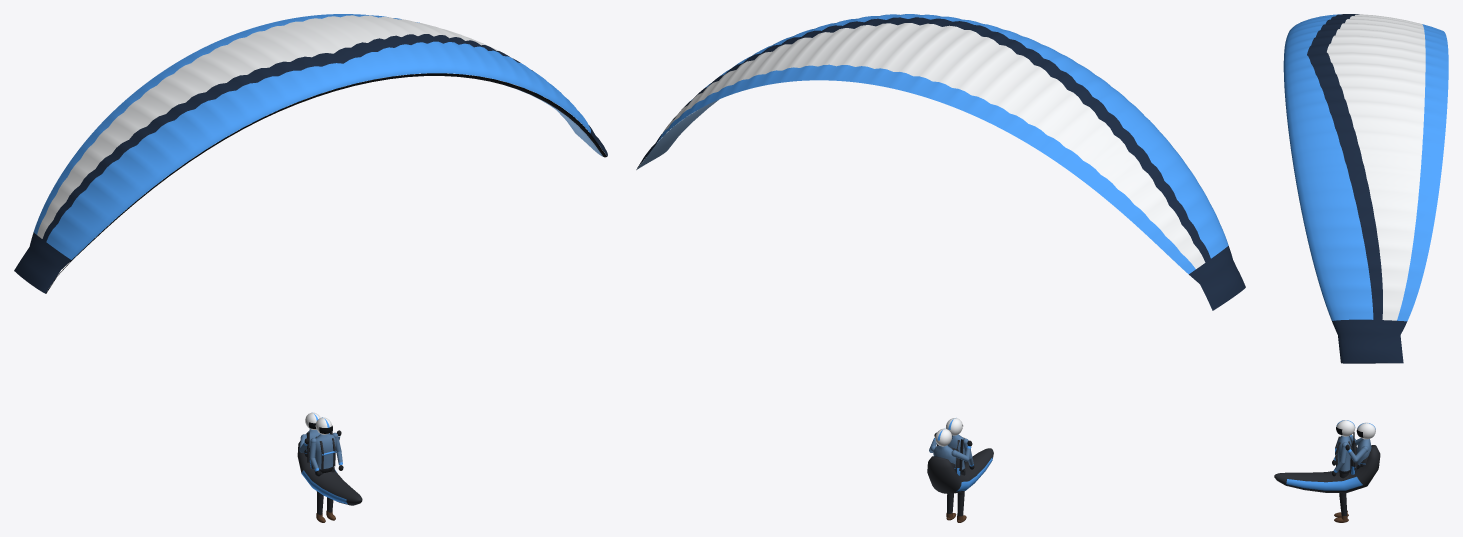
File: paraglider.glb
The picture shows the model from 3 angles, left to right: view 1: azimuth 30°, elevation 25°; view 2: azimuth 150°, elevation 25°; view 3: azimuth 270°, elevation 25°; orthographic projection. The views are drawn at different scales.
Parts seen in each view (by area): view 1: canopy, pilot-seated, pilot-standing; view 2: canopy, pilot-seated; view 3: canopy, pilot-seated, pilot-standing, leg-left.
Boxes of the visible parts, bbox=[...] form: canopy: bbox=[14, 14, 607, 462]; pilot-seated: bbox=[297, 412, 362, 505]; pilot-standing: bbox=[309, 417, 343, 476]; canopy: bbox=[636, 14, 1245, 471]; pilot-seated: bbox=[927, 428, 993, 493]; canopy: bbox=[1283, 14, 1448, 470]; pilot-seated: bbox=[1274, 422, 1380, 493]; pilot-standing: bbox=[1332, 420, 1357, 476]; leg-left: bbox=[1334, 472, 1348, 522].
Bounding box in the file's own units: 10.68 × 8.5 × 2.86.
